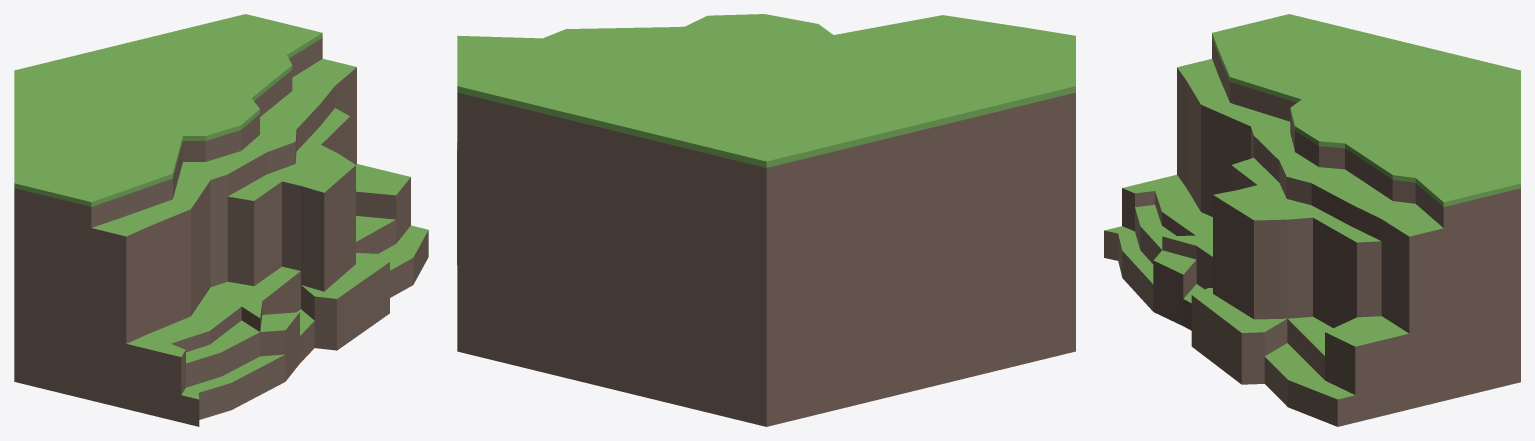
The model's file is tile_Cliff06.fbx.
3 views of the same model, side by side, from view 1: azimuth 30°, elevation 25°; view 2: azimuth 150°, elevation 25°; view 3: azimuth 270°, elevation 25° (orthographic). The views are drawn at different scales.
Visible parts, largest first — view 1: Tile_Cliff2; view 2: Tile_Cliff2; view 3: Tile_Cliff2.
Boxes of the visible parts, x1,y1,x2,y2 form: Tile_Cliff2: [14, 14, 428, 426]; Tile_Cliff2: [457, 14, 1075, 426]; Tile_Cliff2: [1104, 14, 1520, 426].
Bounding box in the file's own units: 1.9 × 0.82 × 1.56.
